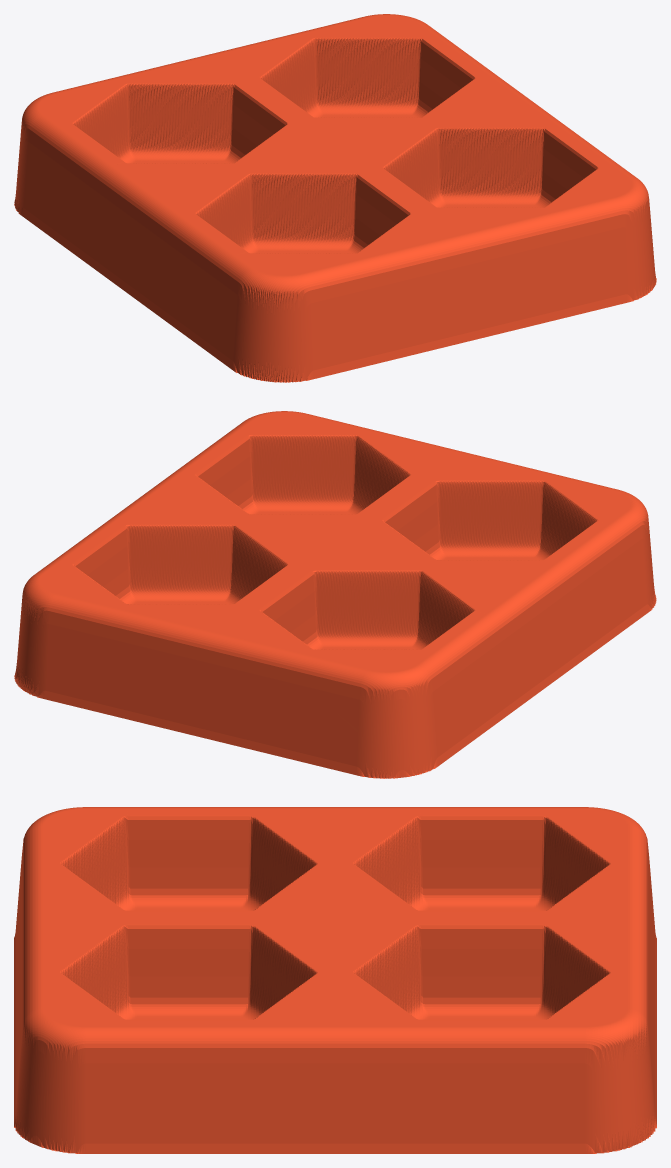
File: mold.glb
3 views of the same model, one above another, from view 1: azimuth 30°, elevation 25°; view 2: azimuth 150°, elevation 25°; view 3: azimuth 270°, elevation 25° (orthographic). The views are drawn at different scales.
Visible parts, largest first — view 1: geometry_0; view 2: geometry_0; view 3: geometry_0.
Part boxes in pixels (x1,y1,x2,y2): geometry_0: [14, 14, 656, 382]; geometry_0: [14, 411, 656, 778]; geometry_0: [14, 807, 656, 1153].
Size of the model in its own units: 0.072 by 0.0159 by 0.0808.
